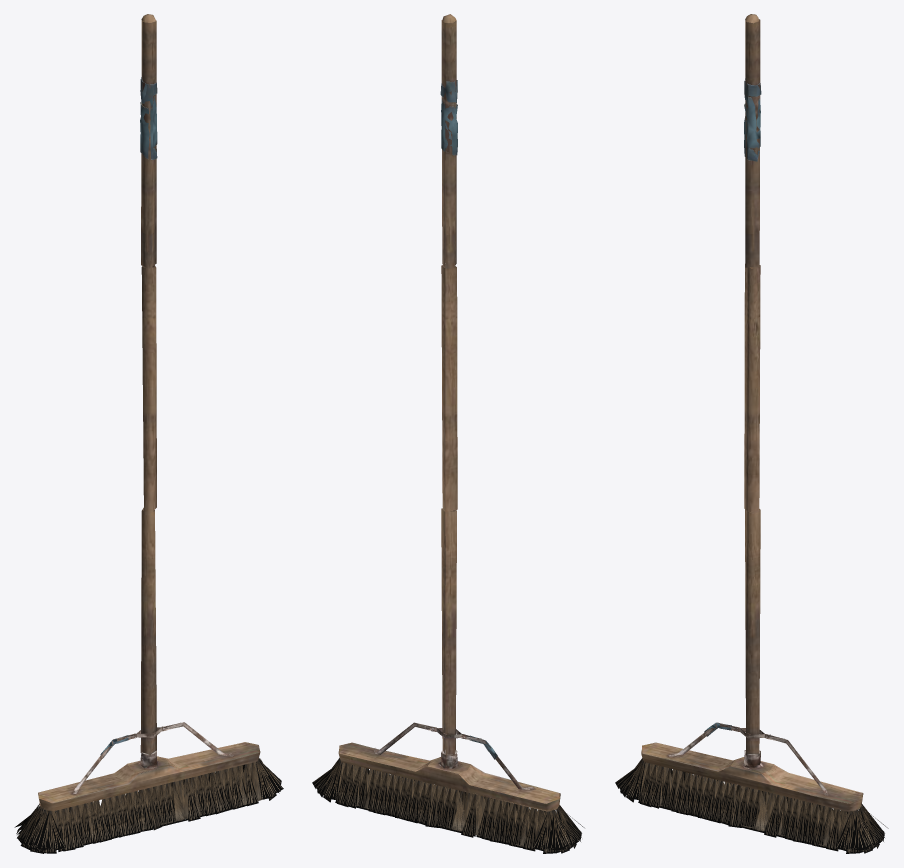
The model's file is broom.glb.
3 views of the same model, side by side, from view 1: azimuth 30°, elevation 25°; view 2: azimuth 150°, elevation 25°; view 3: azimuth 330°, elevation 25° (orthographic).
Visible parts, largest first — view 1: wooden_broom_handle, wooden_broom, wooden_broom_bristles; view 2: wooden_broom_handle, wooden_broom, wooden_broom_bristles; view 3: wooden_broom_handle, wooden_broom, wooden_broom_bristles.
Part boxes in pixels (x1,y1,x2,y2): wooden_broom_handle: (140, 14, 157, 772); wooden_broom: (35, 722, 272, 849); wooden_broom_bristles: (14, 758, 283, 853); wooden_broom_handle: (440, 14, 457, 768); wooden_broom: (337, 722, 563, 851); wooden_broom_bristles: (312, 757, 584, 853); wooden_broom_handle: (744, 14, 761, 768); wooden_broom: (640, 722, 874, 851); wooden_broom_bristles: (615, 758, 888, 853).
Bounding box in the file's own units: 0.4875 × 1.45 × 0.1008.
2 materials, 2 textured.
